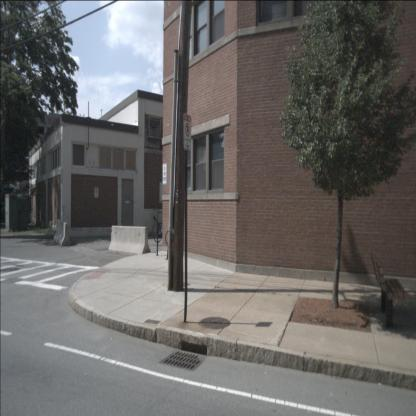movable_object-barrier: (108, 225, 151, 255), (56, 222, 71, 246), (54, 220, 65, 242)
